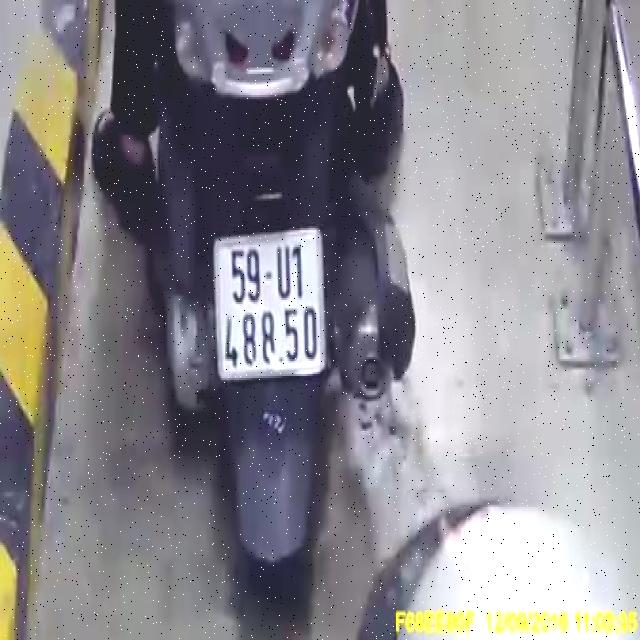0: (304, 306, 318, 364)
1: (292, 246, 308, 297)
4: (222, 316, 239, 368)
5: (283, 305, 301, 366), (230, 246, 248, 306)
8: (242, 309, 259, 363), (262, 310, 276, 364)
9: (246, 247, 262, 308)
U: (274, 244, 292, 300)
